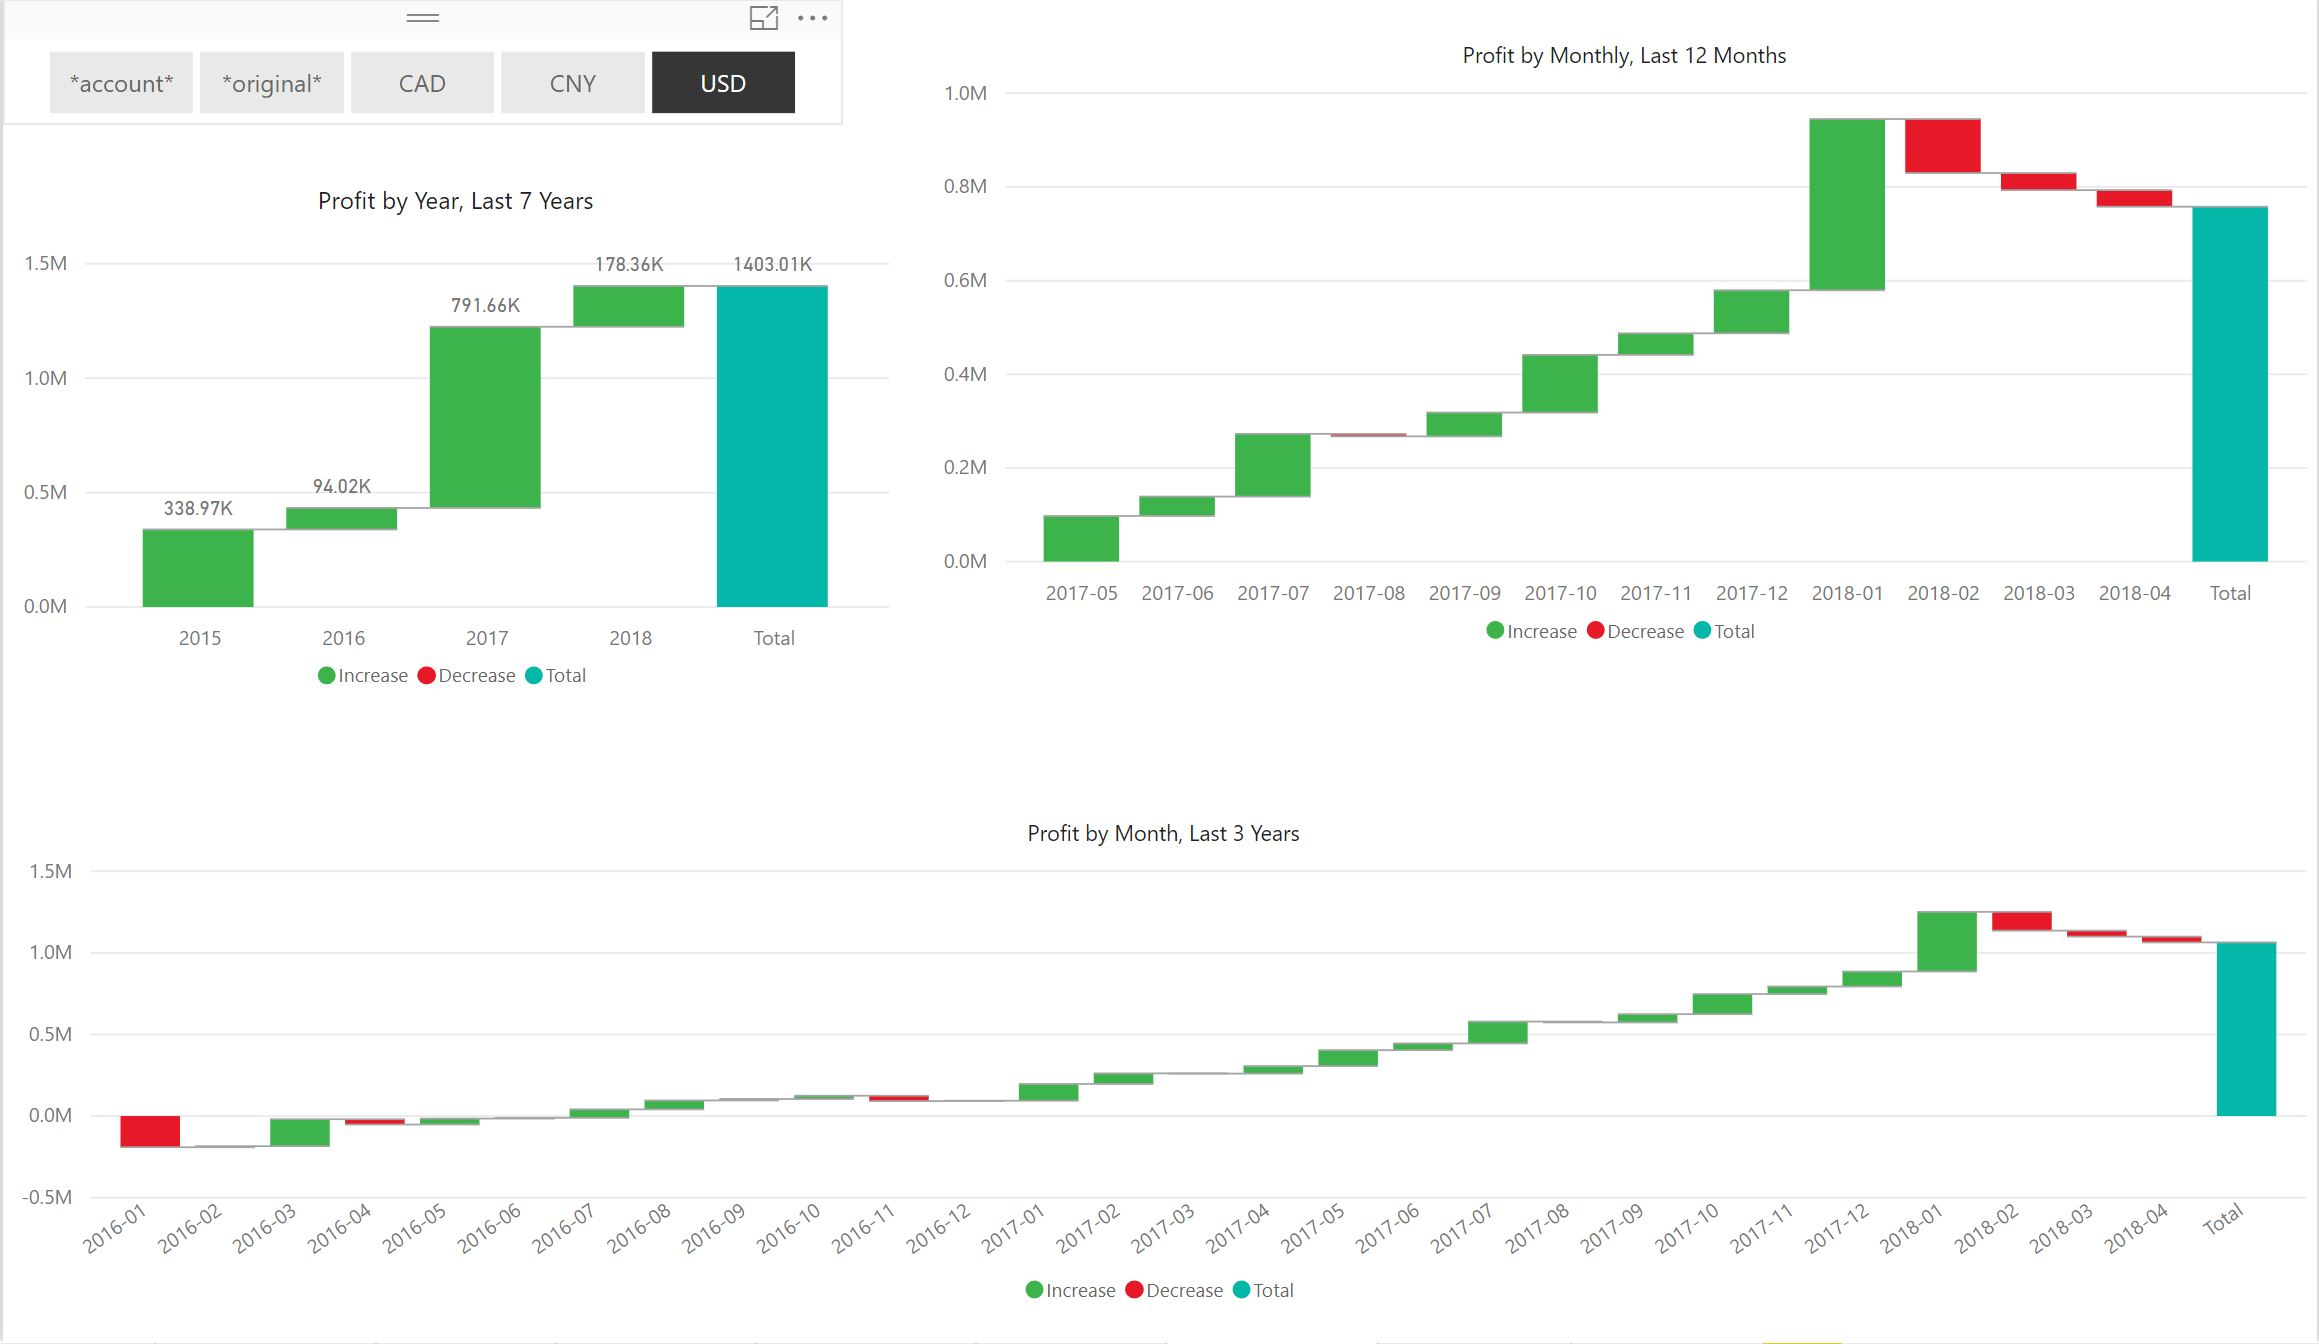

Layout of this report page (visuals, bound fields, positions):
{"tool":"powerbi","page":{"name":"Profit Mvmt","canvas":[1280,720],"ordinal":6},"visuals":[{"type":"slicer","fields":{"Values":["ReportCurrency.ReportCurrency"]},"box":[0,0,464,47.9],"z":1},{"type":"waterfallChart","fields":{"Category":["Dates.Year"],"Y":["Report.Profit"]},"box":[6.1,79.6,489.6,290],"z":2},{"type":"waterfallChart","fields":{"Category":["Dates.Month"],"Y":["Report.Profit"]},"box":[513.9,0,764.8,344.6],"z":3},{"type":"waterfallChart","fields":{"Y":["Report.Profit"],"Category":["Dates.Month"]},"box":[4,430.3,1274.6,279.2],"z":4}]}

Visuals, with their boxes on the page's 1280x720 design canvas (x1, y1, x2, y2). These are canvas units, not pixel positions in the 2319x1344 screenshot, which may show the page scaled, cropped or inside an application window:
slicer - ReportCurrency.ReportCurrency: bbox=(0, 0, 464, 48)
waterfallChart - Dates.Year x Report.Profit: bbox=(6, 80, 496, 370)
waterfallChart - Dates.Month x Report.Profit: bbox=(514, 0, 1279, 345)
waterfallChart - Report.Profit x Dates.Month: bbox=(4, 430, 1279, 710)
